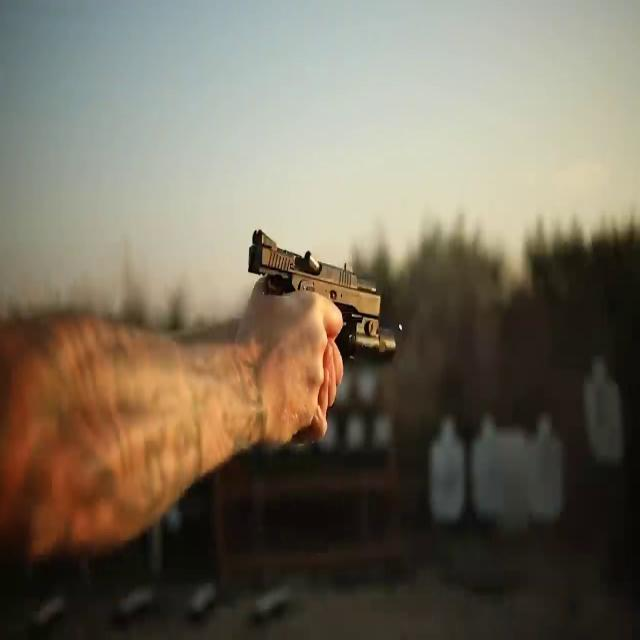Handgun: (239, 210, 413, 456)
